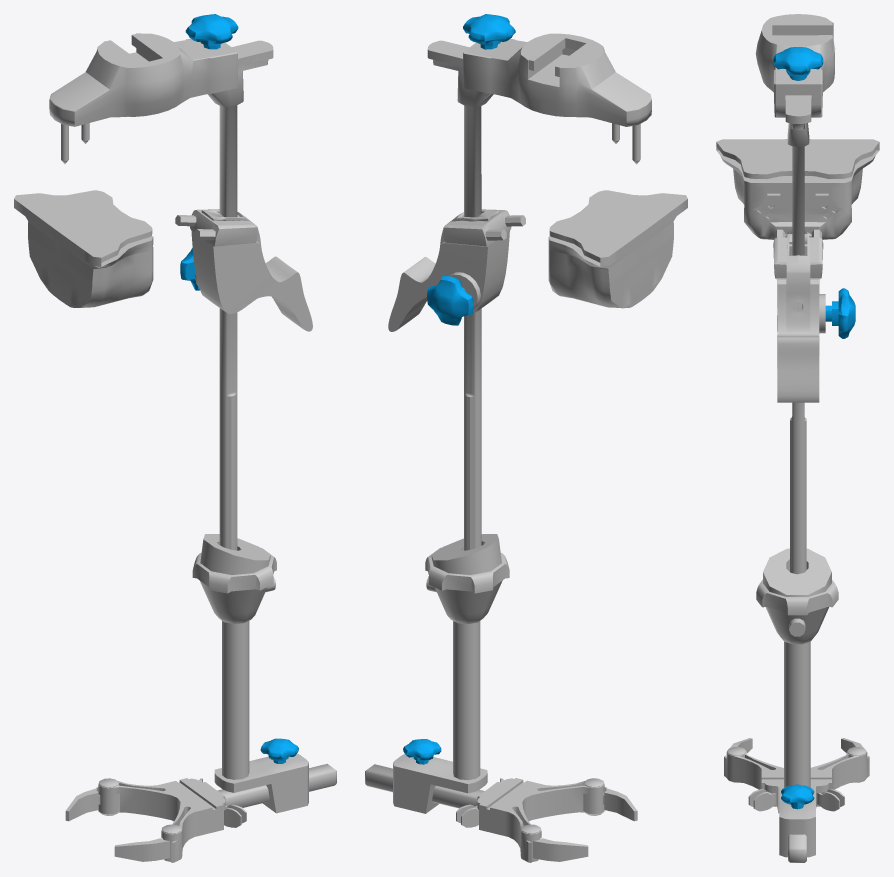
Rendered from spiked uprod - ankle clamp.fbx.
The picture shows the model from 3 angles, left to right: view 1: azimuth 30°, elevation 25°; view 2: azimuth 150°, elevation 25°; view 3: azimuth 270°, elevation 25°; orthographic projection. The views are drawn at different scales.
Parts seen in each view (by area): view 1: Line002, Box003, Cylinder002, spiked uprod 01, Cylinder001, Line004, Box005, Box006, Box004, clamp_L001, clamp_L, Box007; view 2: Line002, Box003, Cylinder002, Cylinder001, spiked uprod 01, Line004, Box005, Box002, Box006, Box004, clamp_L, clamp_L001 (+1 smaller); view 3: Line002, Cylinder002, spiked uprod 01, Cylinder001, Box003, Line004, Box005, Box004, Box002, Box007, Box006.
Part boxes in pixels (left/top/right/bottom): Line002: left=14, top=190, right=153, bottom=307; Box003: left=49, top=33, right=238, bottom=163; Cylinder002: left=192, top=534, right=276, bottom=779; spiked uprod 01: left=175, top=209, right=312, bottom=331; Cylinder001: left=207, top=40, right=273, bottom=550; Line004: left=96, top=778, right=246, bottom=862; Box005: left=214, top=753, right=308, bottom=813; Box006: left=217, top=763, right=336, bottom=807; Box004: left=185, top=14, right=238, bottom=49; clamp_L001: left=114, top=838, right=169, bottom=861; clamp_L: left=65, top=788, right=100, bottom=821; Box007: left=260, top=738, right=298, bottom=763; Line002: left=548, top=190, right=687, bottom=308; Box003: left=463, top=33, right=651, bottom=164; Cylinder002: left=425, top=534, right=509, bottom=780; Cylinder001: left=427, top=40, right=493, bottom=550; spiked uprod 01: left=388, top=209, right=525, bottom=331; Line004: left=456, top=778, right=606, bottom=862; Box005: left=393, top=754, right=487, bottom=813; Box002: left=427, top=275, right=473, bottom=325; Box006: left=365, top=764, right=484, bottom=808; Box004: left=463, top=14, right=515, bottom=49; clamp_L: left=533, top=838, right=588, bottom=861; clamp_L001: left=603, top=788, right=637, bottom=821; Line002: left=716, top=139, right=879, bottom=239; Cylinder002: left=756, top=548, right=838, bottom=787; spiked uprod 01: left=773, top=229, right=825, bottom=402; Cylinder001: left=785, top=95, right=811, bottom=574; Box003: left=755, top=14, right=835, bottom=117; Line004: left=724, top=747, right=869, bottom=813; Box005: left=779, top=781, right=815, bottom=857; Box004: left=773, top=47, right=823, bottom=80; Box002: left=825, top=288, right=855, bottom=338; Box007: left=781, top=784, right=814, bottom=809; Box006: left=788, top=834, right=806, bottom=862.
Bounding box in the file's own units: 26.27 × 71.88 × 13.9.
